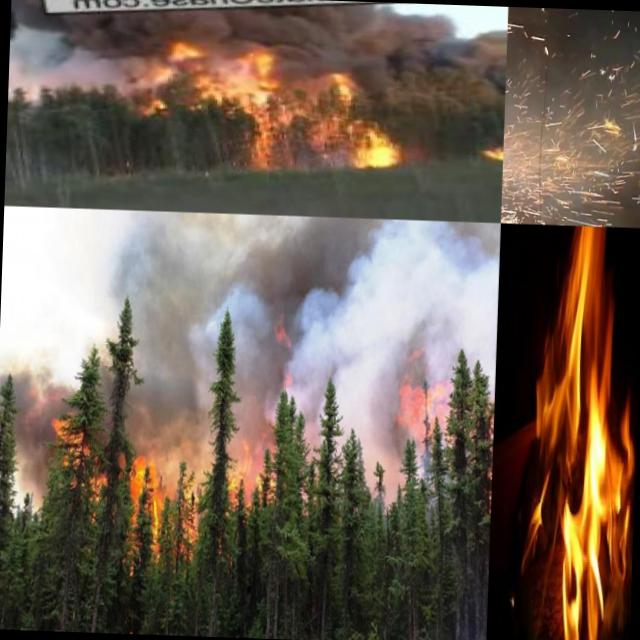fire: (517, 243, 640, 640), (123, 454, 205, 558), (158, 46, 300, 101), (394, 352, 454, 449), (338, 110, 424, 174), (223, 428, 277, 508), (50, 404, 86, 476)
smoke: (102, 210, 500, 354), (278, 6, 479, 90), (226, 347, 396, 431), (8, 32, 164, 98), (123, 344, 212, 456), (0, 364, 55, 492)
